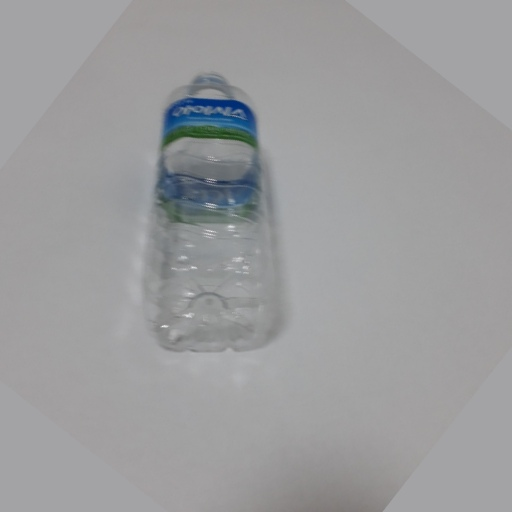Plastic_0: (138, 68, 290, 359)
